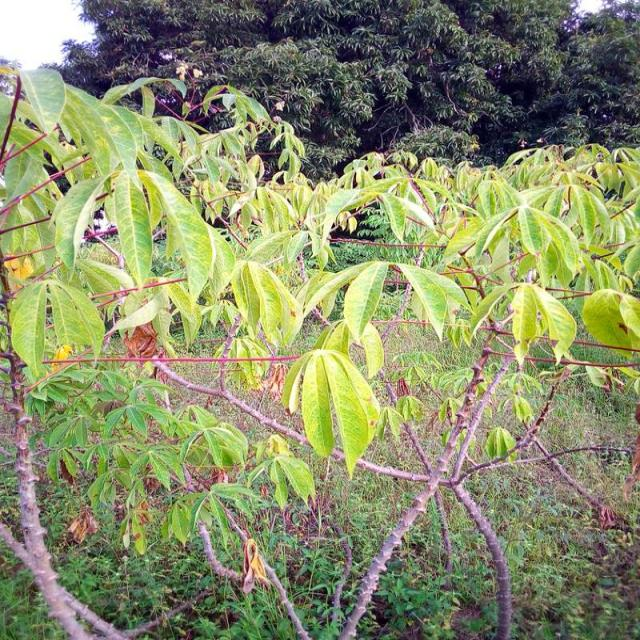cassava leaf: (283, 320, 382, 478)
